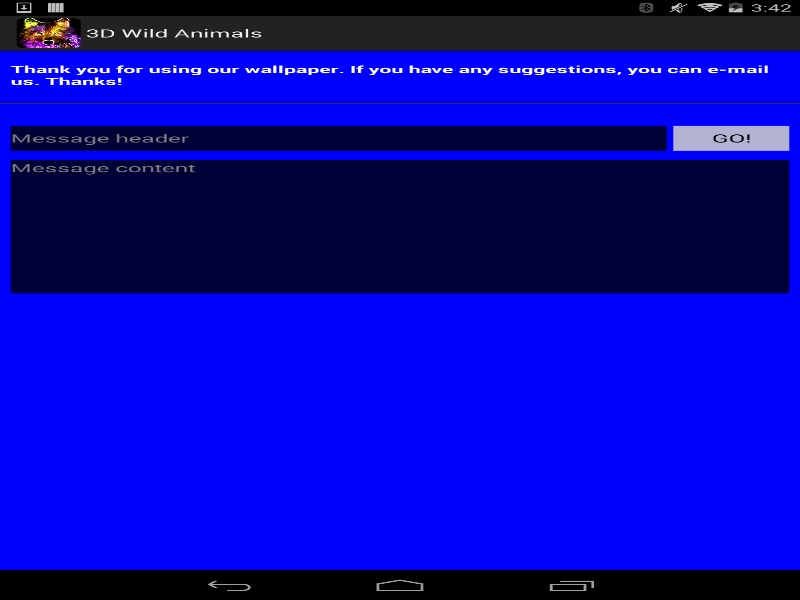Button: (673, 125, 789, 150)
Input: (10, 160, 789, 293), (10, 125, 666, 150)
